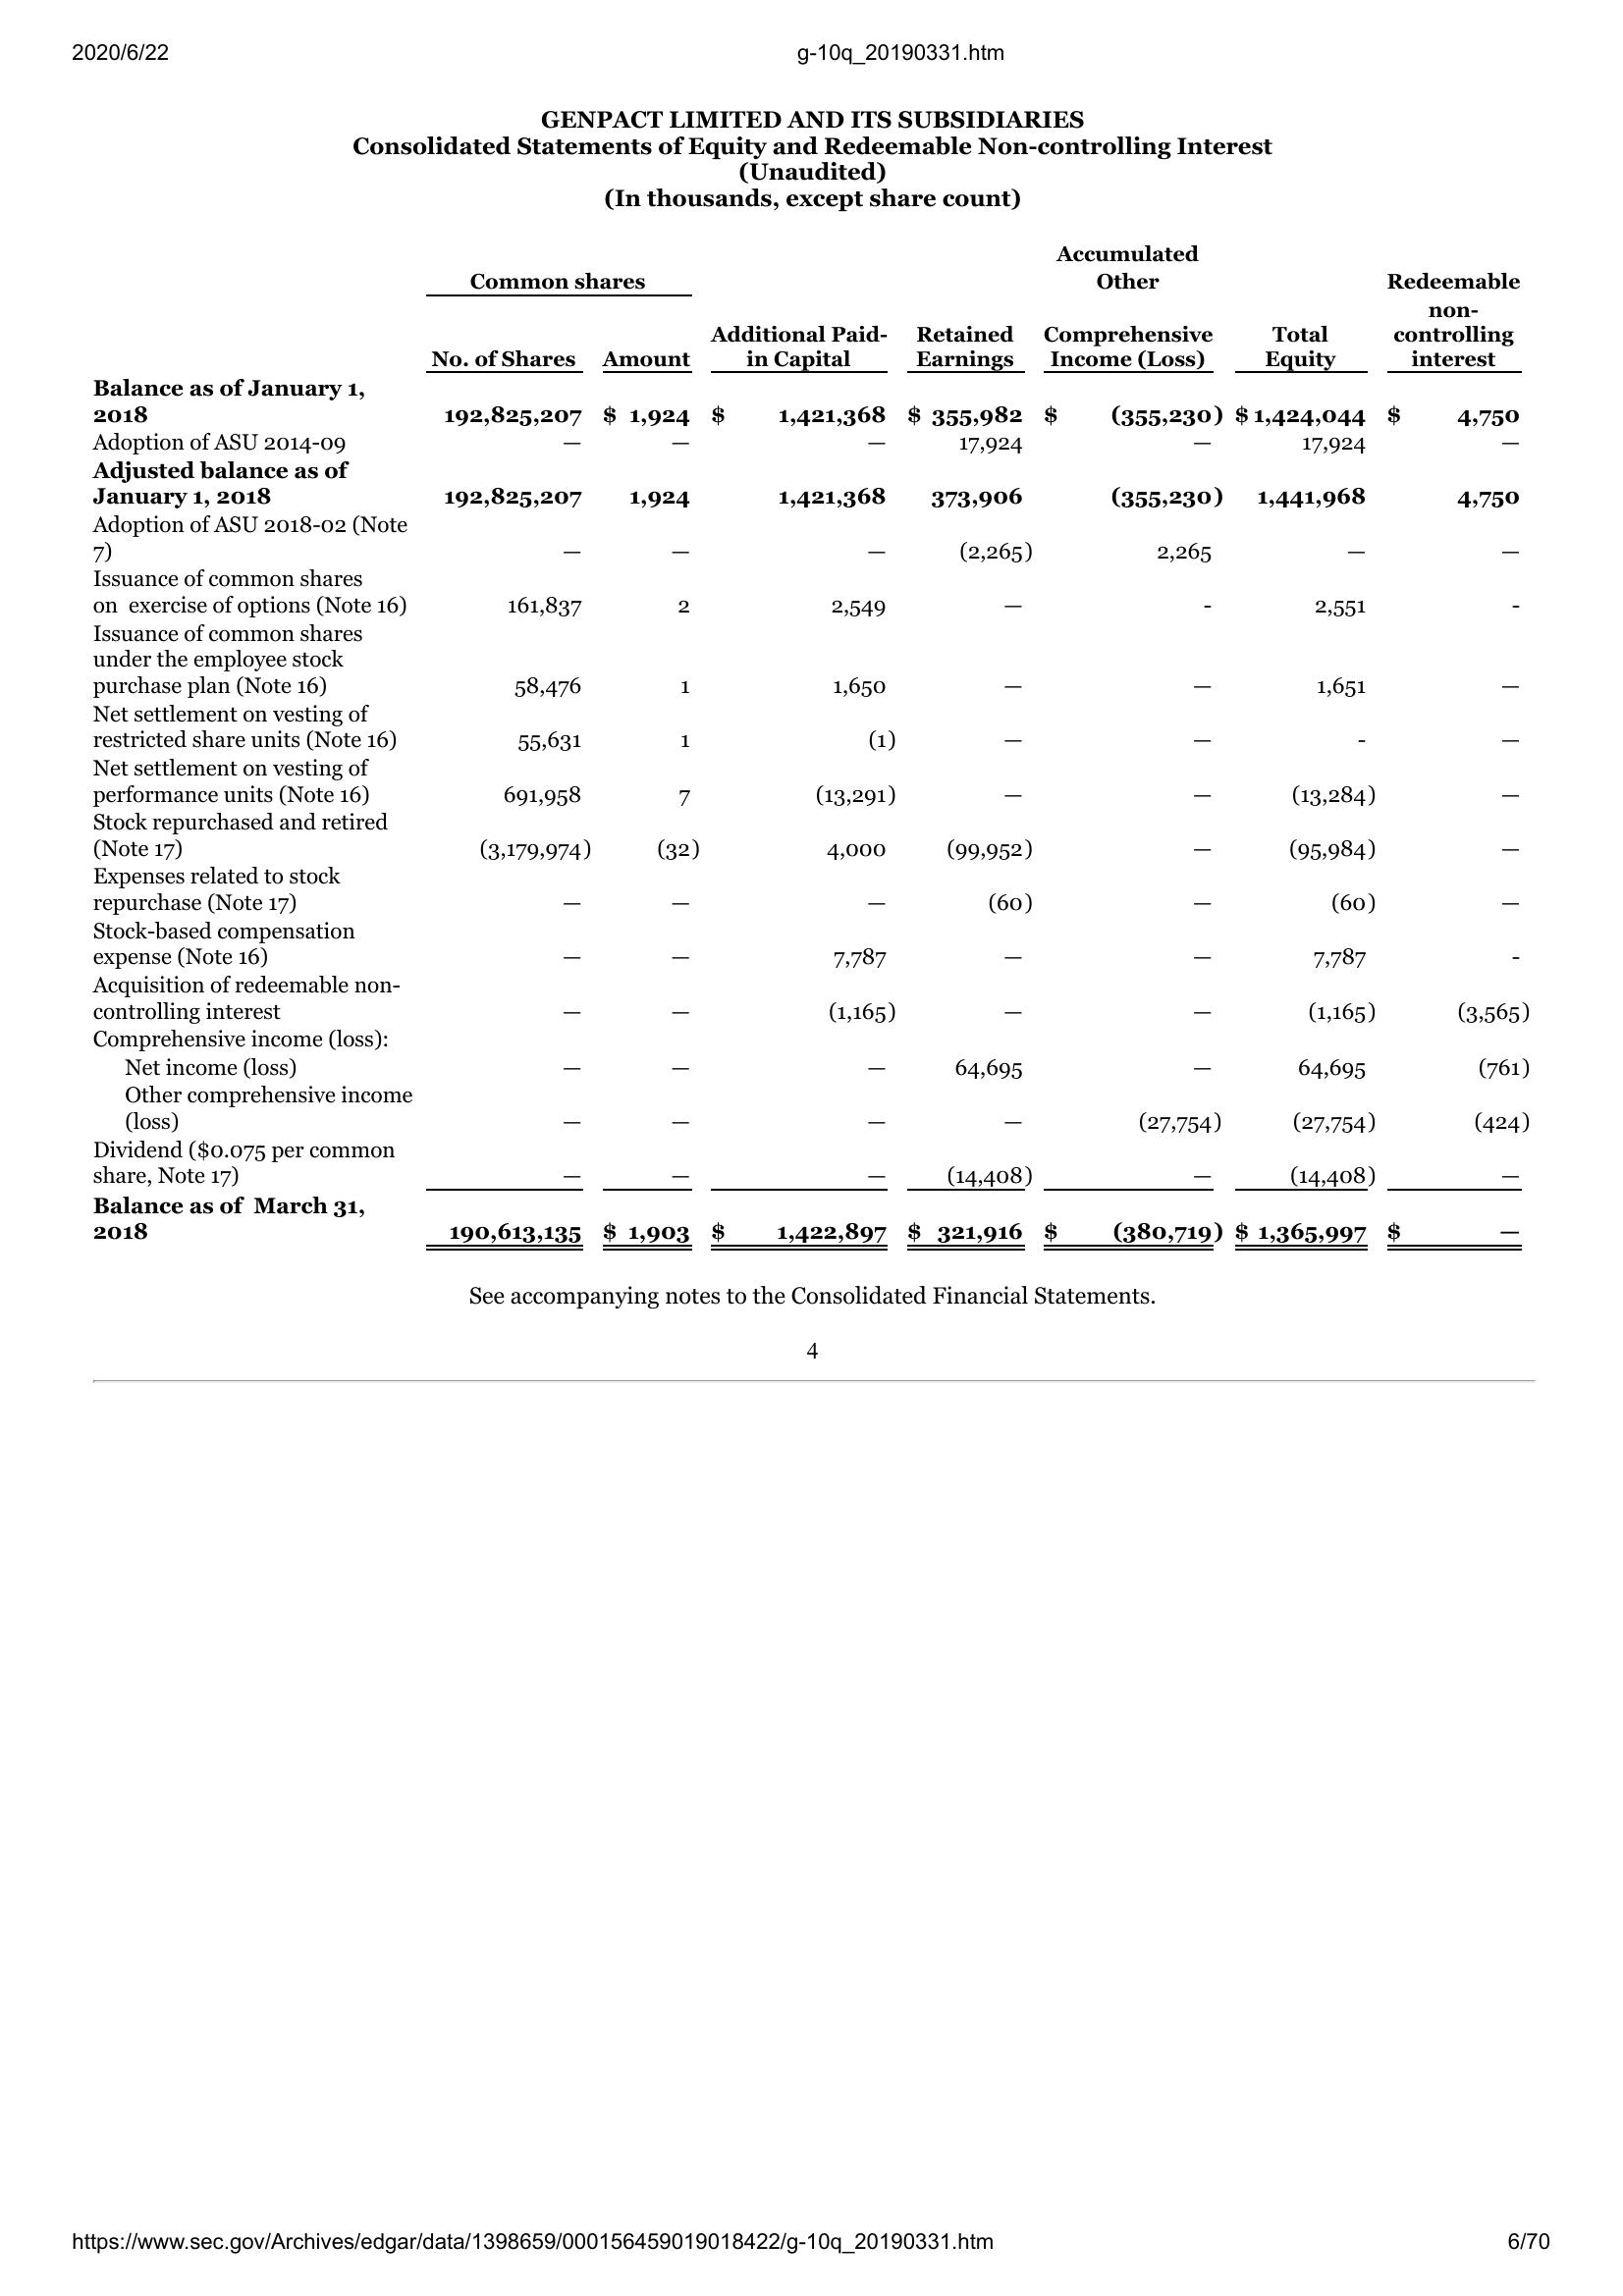table: (77, 235, 1530, 1264)
